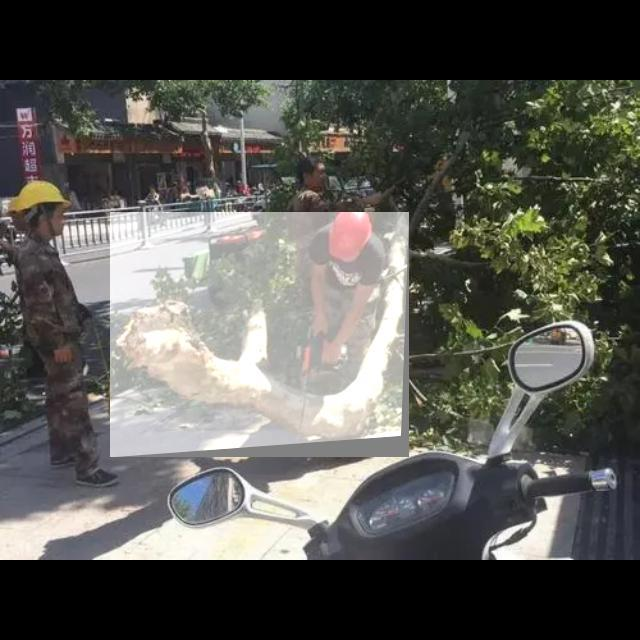fallen_tree: (110, 212, 410, 458)
